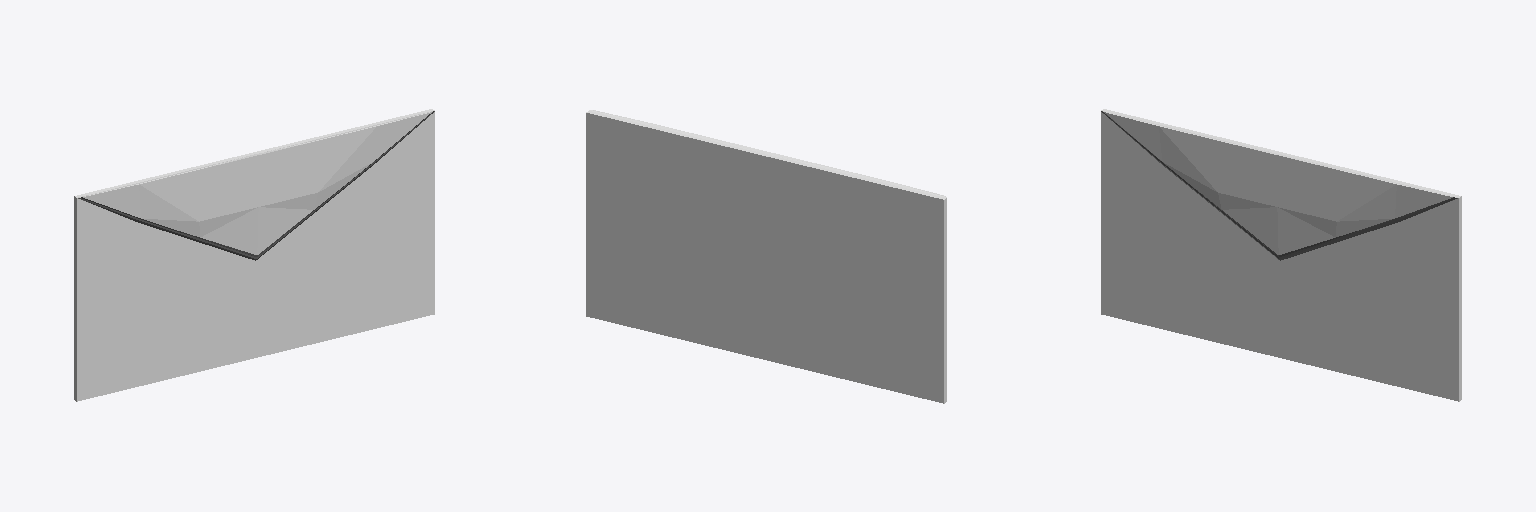
Rendered from letter.obj.
3 views of the same model, side by side, from view 1: azimuth 30°, elevation 25°; view 2: azimuth 150°, elevation 25°; view 3: azimuth 330°, elevation 25° (orthographic).
Parts seen in each view (by area): view 1: pCube6; view 2: pCube6; view 3: pCube6.
Boxes of the visible parts, x1=… form: pCube6: x1=74, y1=109, x2=434, y2=401; pCube6: x1=586, y1=110, x2=946, y2=403; pCube6: x1=1101, y1=109, x2=1461, y2=401.
Size of the model in its own units: 84.98 by 46.39 by 2.16.